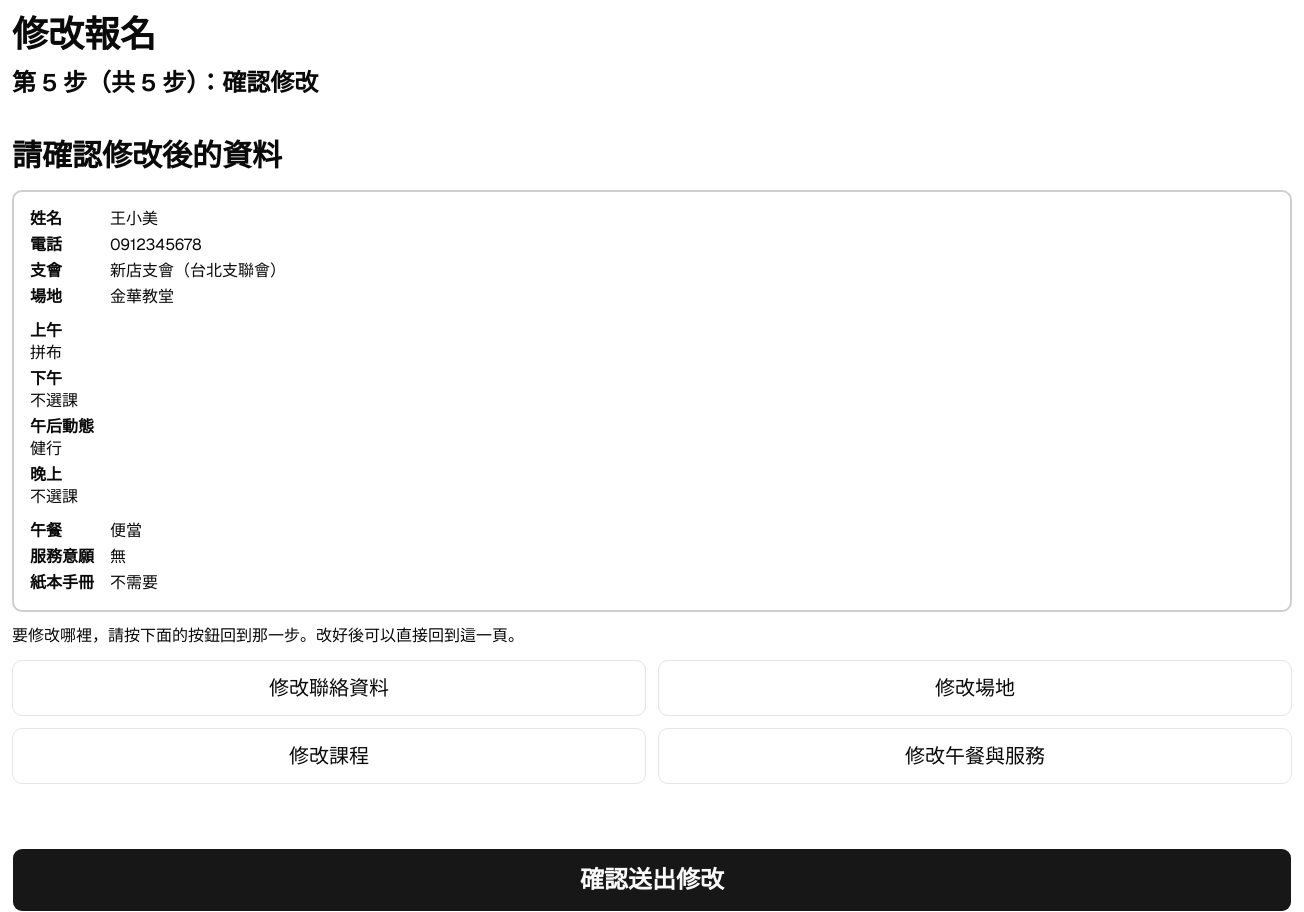
it: 修改報名時換場地 › 停在確認頁時場地多了一個還沒選的場次，按「確認送出修改」跳回選課那一步，不會送出
Click the button "確認送出修改" at (652, 880), box [12,848,1292,911]
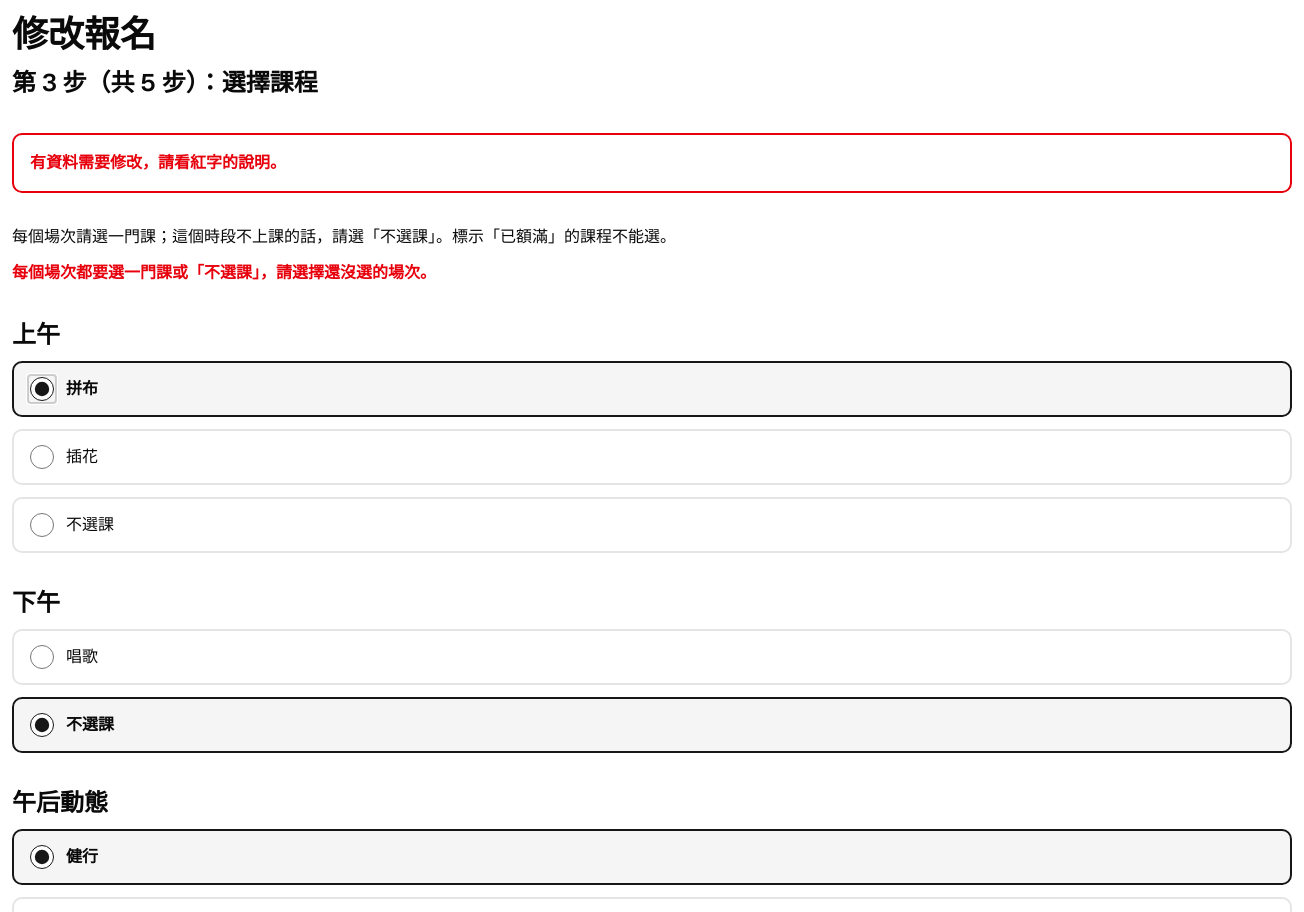
Expected: the text "每個場次都要選一門課或「不選課」，請選擇還沒選的場次。" is shown, [12,262,436,283]
Expected: the radio button labelled "拼布" is checked, [30,377,54,401]
